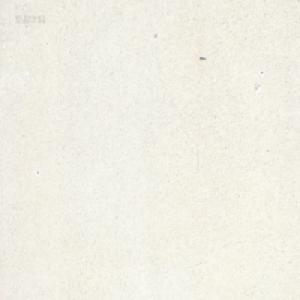Nail: (199, 54, 206, 59)
